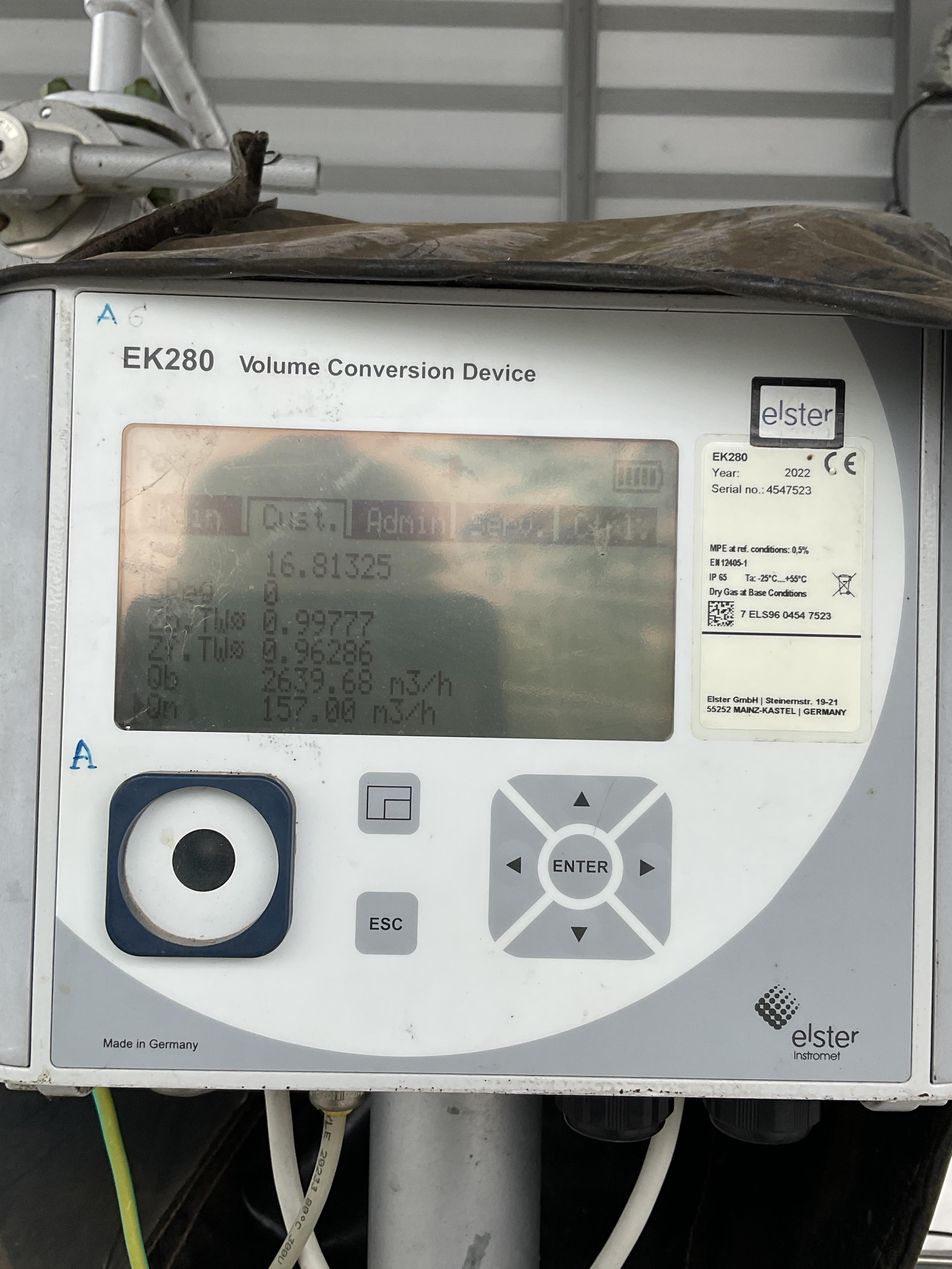digital_screen: (115, 425, 679, 739)
